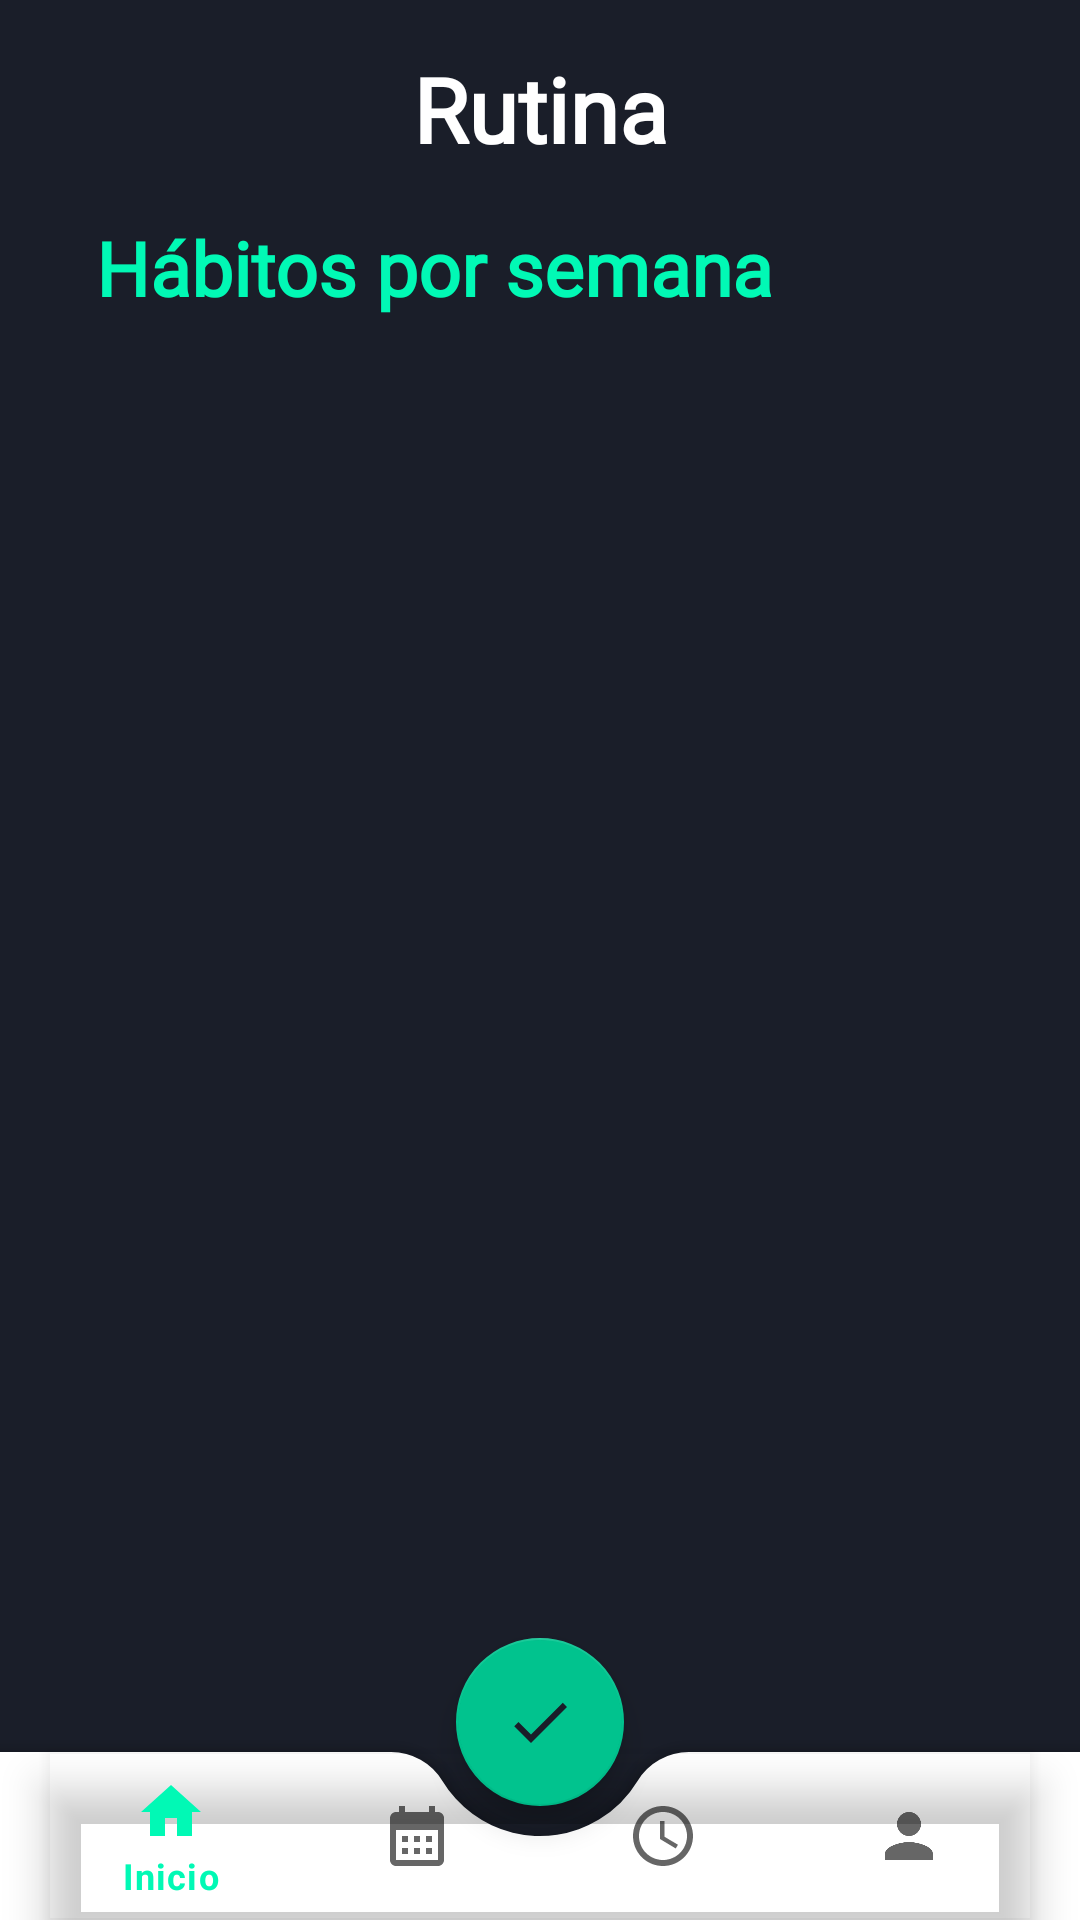

Point at icon controls on the screen. Image size 1080*1920, points as (x=x, y=y).
check: (x=540, y=1752)
